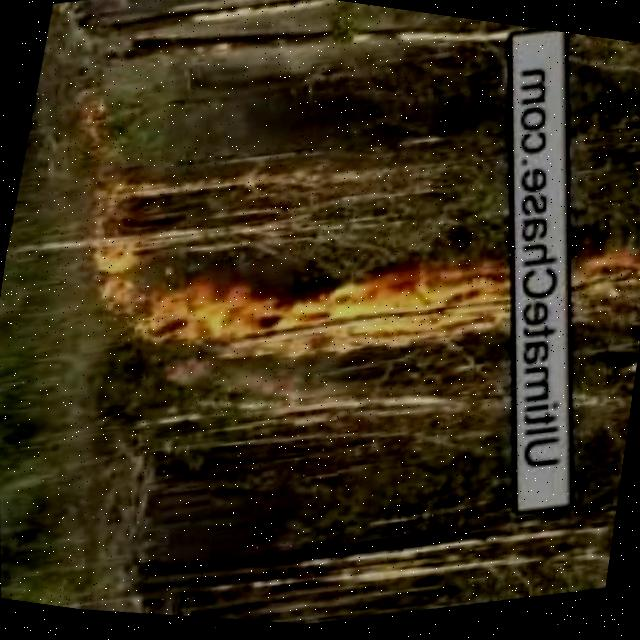fire: (229, 236, 507, 400), (68, 200, 256, 396), (566, 245, 640, 319)
